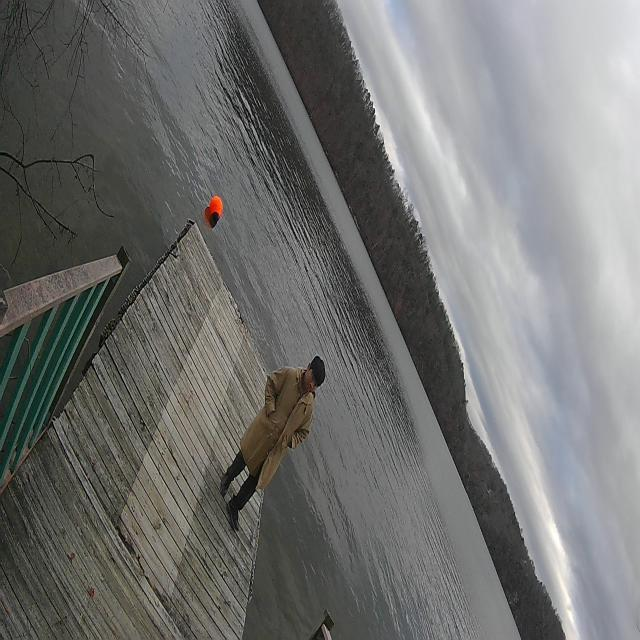Buoy: (208, 189, 225, 228)
